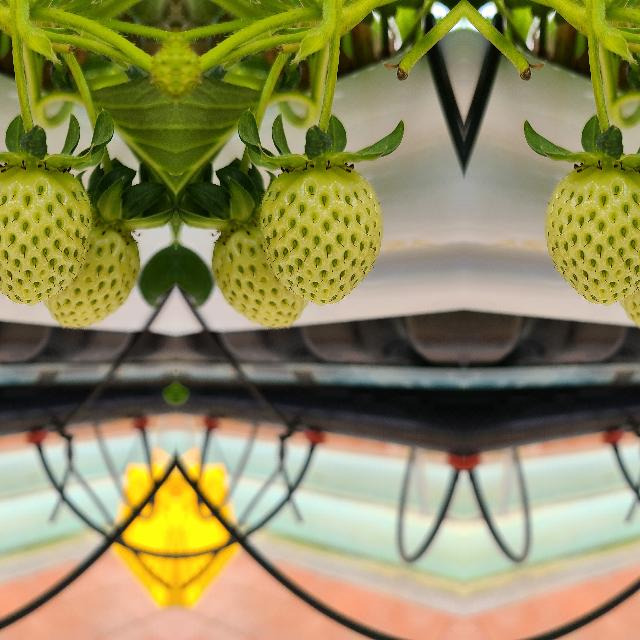Health_25: (258, 167, 382, 305), (197, 208, 307, 334), (43, 208, 153, 334), (544, 167, 640, 305), (0, 167, 91, 305)
